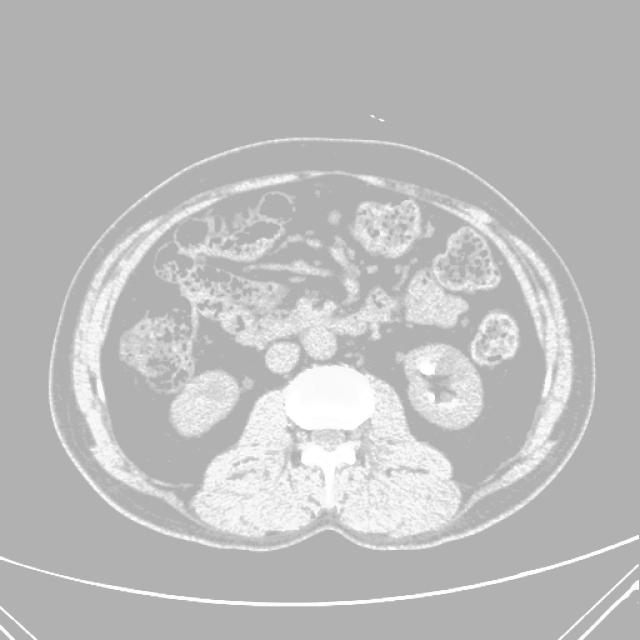STONE: (111, 263, 479, 457)
